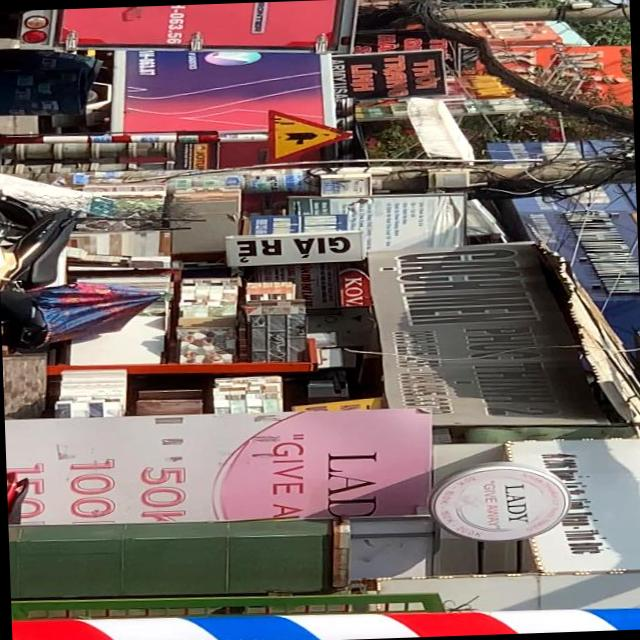W-207b: (265, 108, 351, 161)
